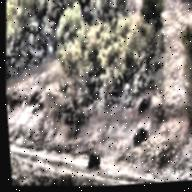boar: (132, 126, 152, 150), (85, 148, 104, 172), (136, 94, 152, 118)
